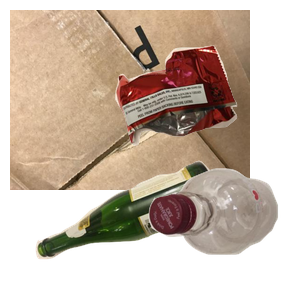cardboard: (10, 10, 250, 190)
glass: (33, 158, 246, 300)
plastic: (146, 166, 300, 300)
trash: (113, 43, 300, 181)
